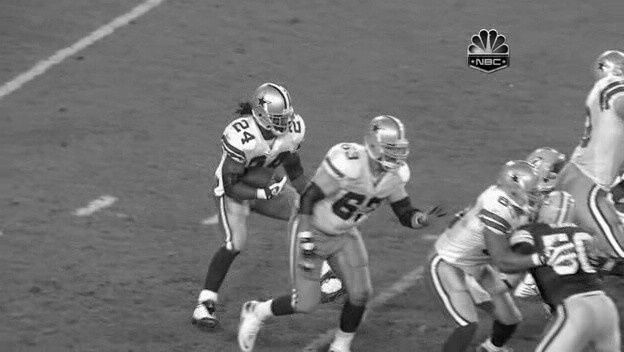person: (257, 84, 293, 130), (256, 84, 292, 130), (258, 84, 294, 130), (257, 83, 293, 129), (257, 85, 293, 131)
target_negative: (132, 197, 303, 294), (413, 65, 529, 123), (325, 305, 438, 337), (257, 324, 414, 333), (336, 338, 595, 341), (41, 317, 67, 322)
